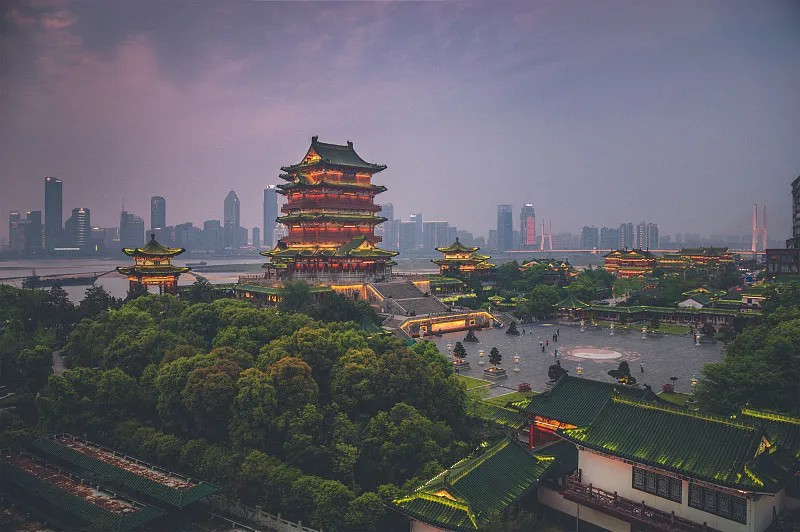Teng: (260, 134, 398, 279)
